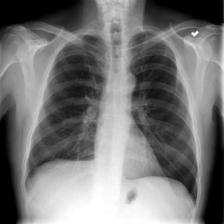normal: (21, 24, 204, 209)
